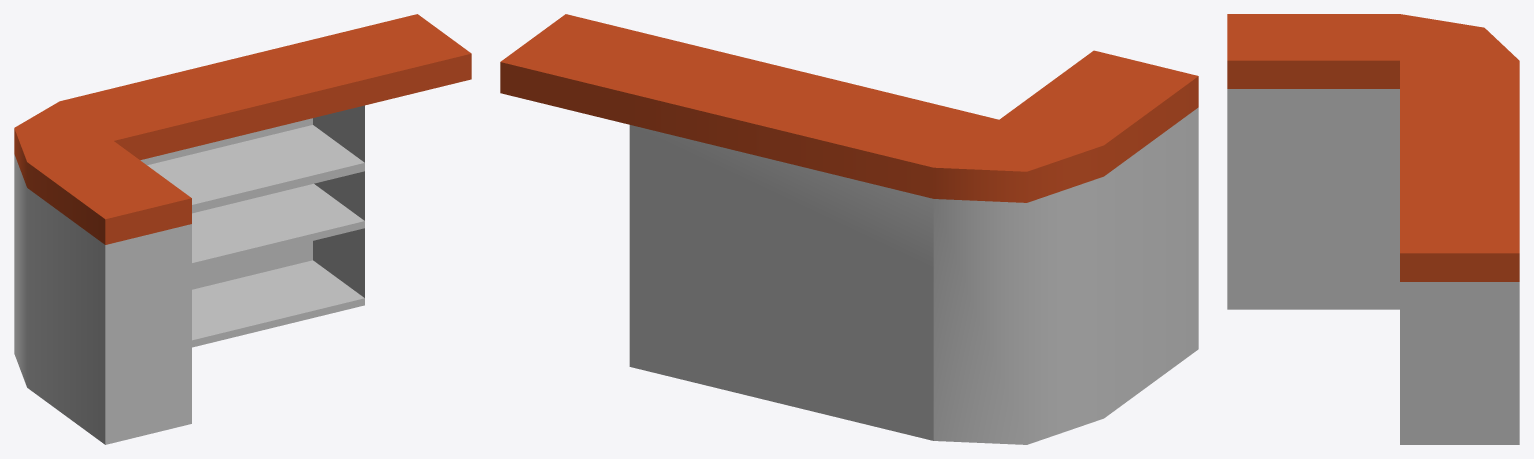
The model's file is caunnta.fbx.
3 views of the same model, side by side, from view 1: azimuth 30°, elevation 25°; view 2: azimuth 150°, elevation 25°; view 3: azimuth 270°, elevation 25° (orthographic). The views are drawn at different scales.
Parts seen in each view (by area): view 1: kaunnta-; view 2: kaunnta-; view 3: kaunnta-.
Part boxes in pixels (x1,y1,x2,y2): kaunnta-: [14, 14, 471, 444]; kaunnta-: [500, 14, 1198, 444]; kaunnta-: [1227, 14, 1519, 444].
Bounding box in the file's own units: 462 × 224 × 238.
